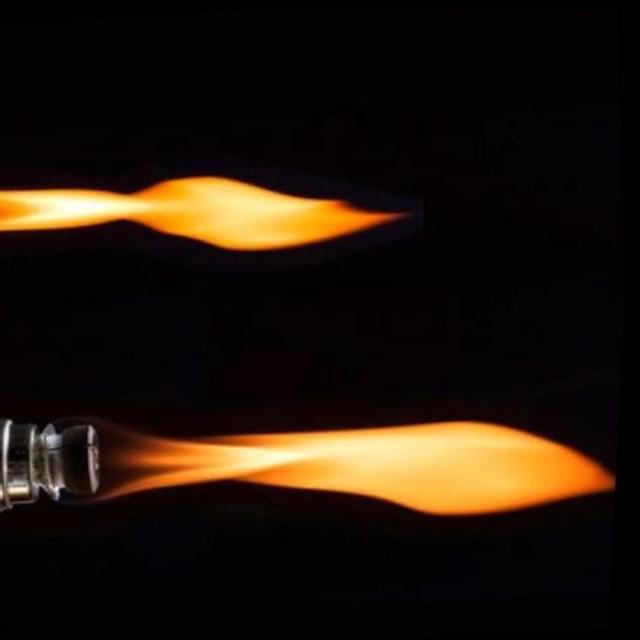fire: (30, 382, 624, 554), (0, 145, 428, 285)
